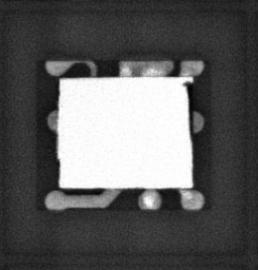DIE_BROKEN: (181, 79, 194, 143)
